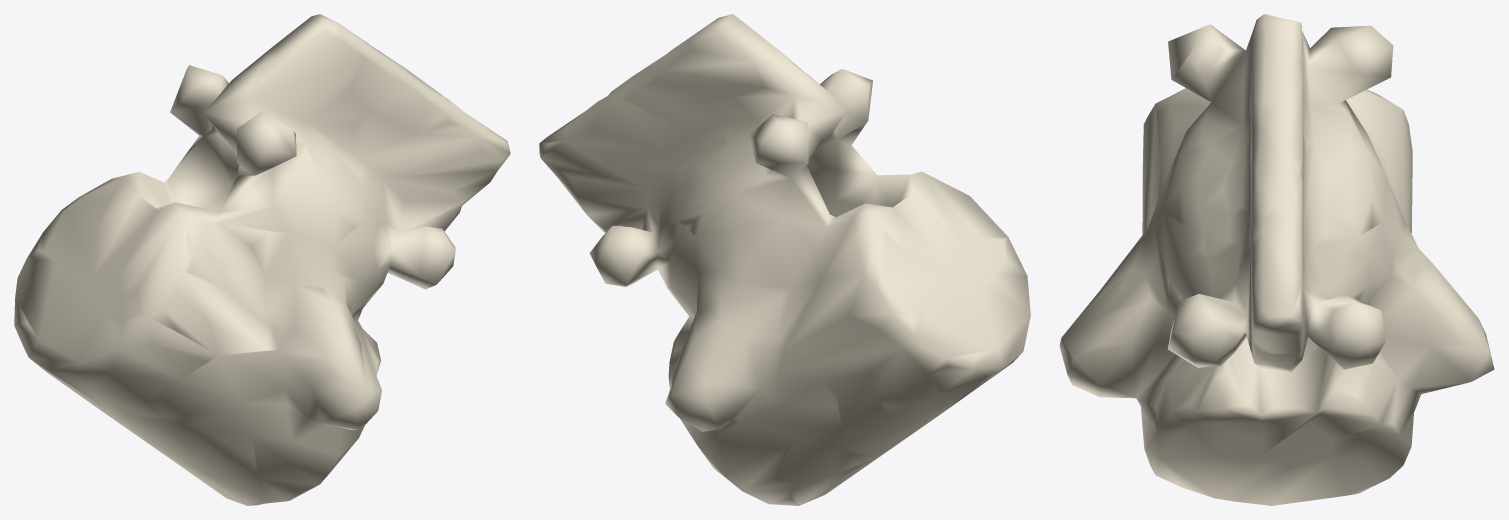
The model's file is cervical_2.glb.
The picture shows the model from 3 angles, left to right: view 1: azimuth 30°, elevation 25°; view 2: azimuth 150°, elevation 25°; view 3: azimuth 270°, elevation 25°; orthographic projection. The views are drawn at different scales.
Visible parts, largest first — view 1: geometry_0; view 2: geometry_0; view 3: geometry_0.
Part boxes in pixels (x1,y1,x2,y2): geometry_0: (14, 14, 510, 505); geometry_0: (539, 14, 1030, 505); geometry_0: (1059, 14, 1494, 505).
Size of the model in its own units: 0.3516 by 0.3287 by 0.2395.
